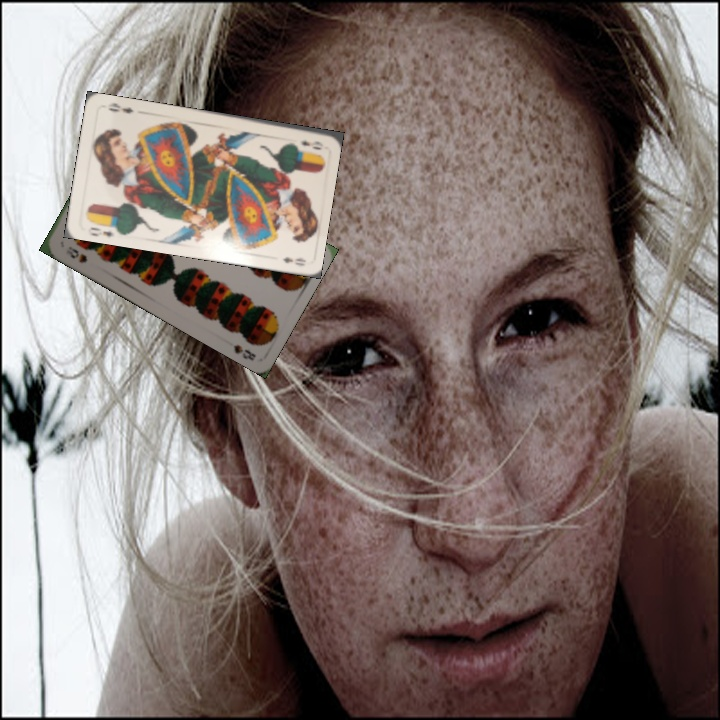EO: (86, 219, 121, 239), (297, 137, 326, 152)
S8: (62, 242, 90, 266)
